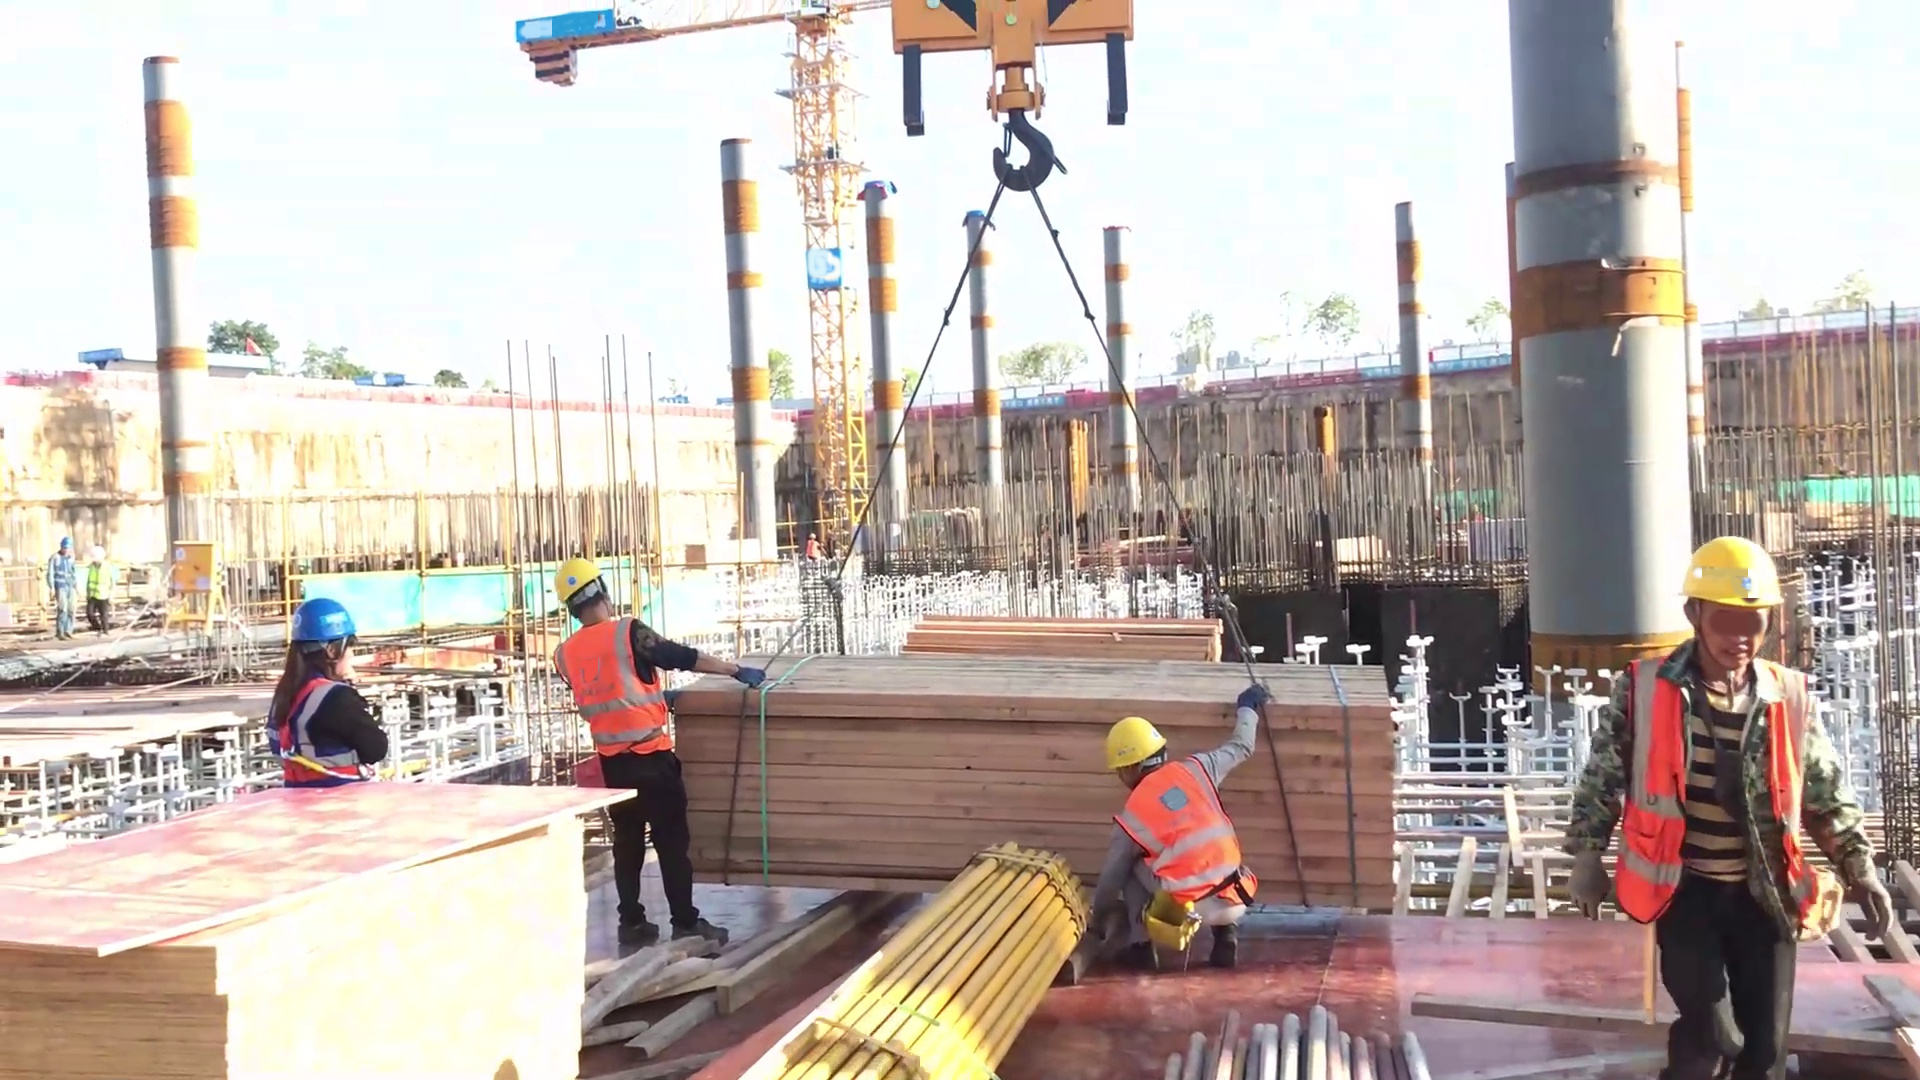board: (1, 773, 644, 1078)
ebox: (162, 533, 232, 641)
helmet: (1673, 523, 1790, 618), (293, 595, 382, 661), (1088, 707, 1163, 756), (542, 556, 617, 600), (58, 530, 71, 545)
hook: (889, 4, 1148, 191)
person: (1551, 531, 1902, 1080), (533, 553, 785, 950), (1070, 684, 1282, 981), (271, 584, 400, 796), (263, 595, 379, 787), (47, 531, 88, 627), (83, 542, 117, 634)
vest: (1615, 643, 1825, 931), (1101, 751, 1265, 895), (546, 619, 685, 754), (271, 668, 366, 785), (44, 554, 83, 596), (85, 561, 112, 607)
wood: (631, 635, 1417, 920)
